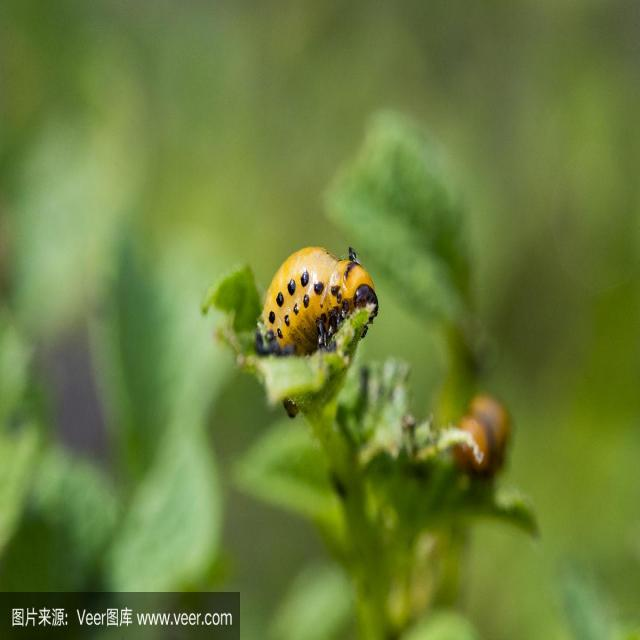ShuCaiHuaBanChong-Larva-: (259, 232, 392, 384)
